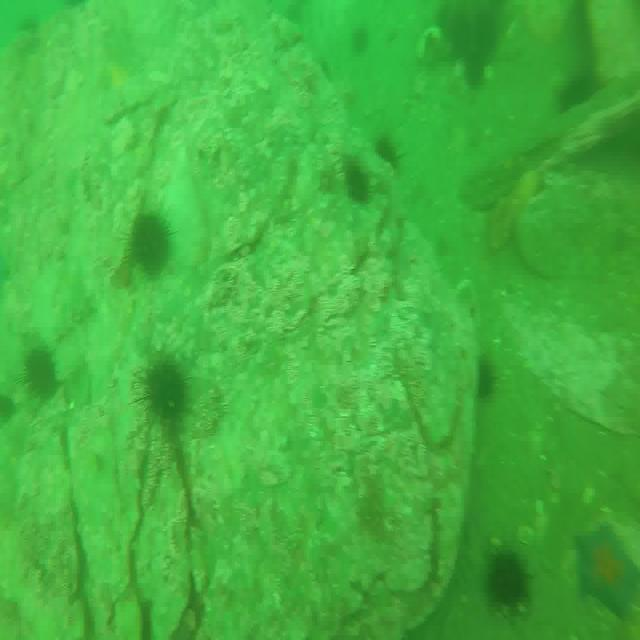echinus: (140, 353, 190, 423), (125, 212, 172, 271), (488, 544, 526, 612), (556, 71, 601, 118), (25, 346, 59, 404), (374, 130, 397, 182), (344, 159, 370, 205), (470, 354, 496, 393)
starfish: (578, 520, 640, 622)
